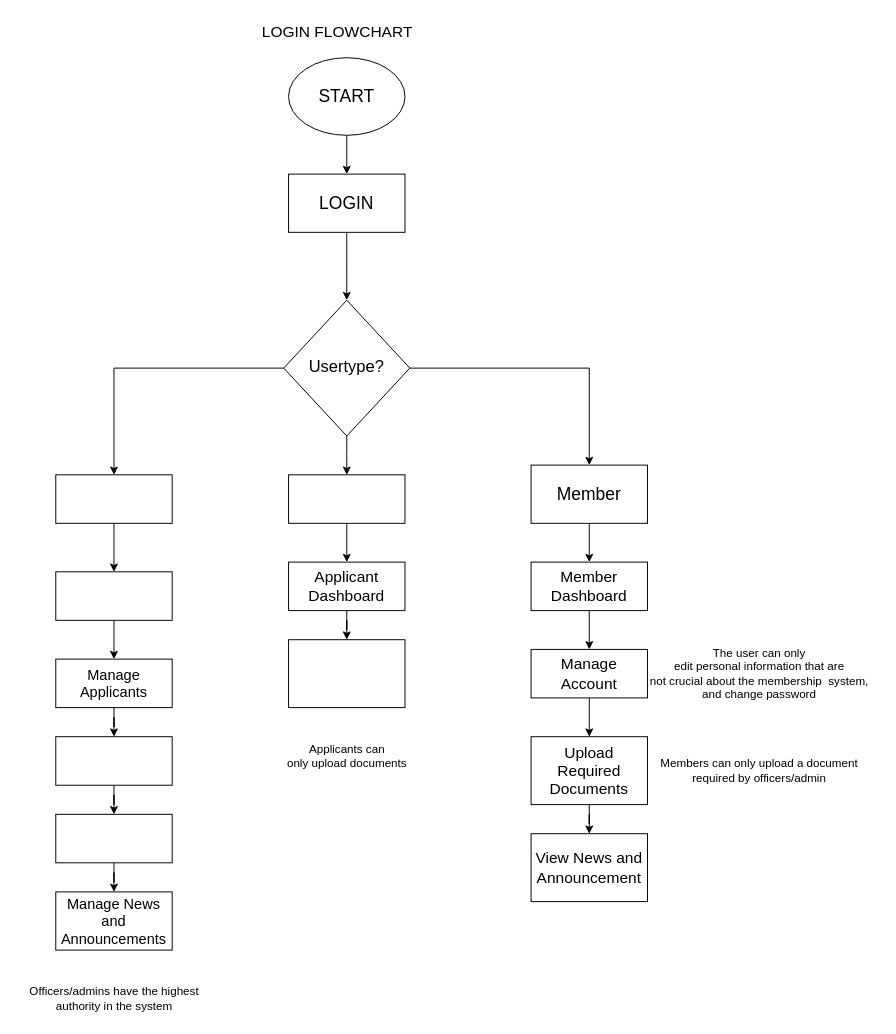
The diagram is 896 pixels wide and 1034 high, and some of its shapes have lost their labels. The shapes that lost their labels are listed below. From the top down, each one's centre as x and y in pixels, then its label:
At (113,498): "Admin/Officer".
At (346,498): "Applicant".
At (113,595): "Admin Dashboard".
At (346,673): "Submit Document Requirements".
At (113,760): "Manage Documents".
At (113,838): "Manage Members".
